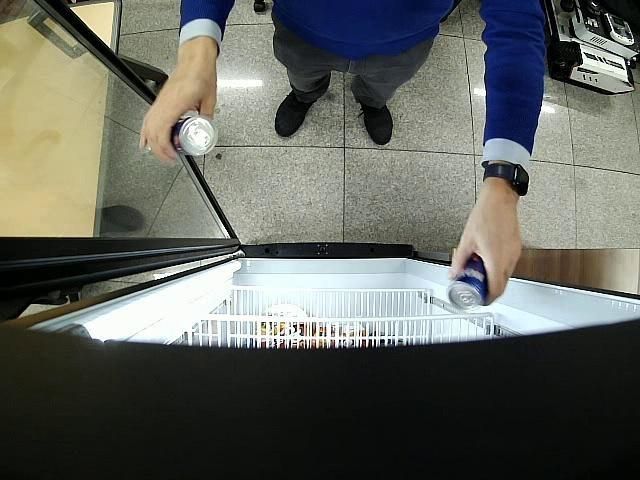16_hot6: (448, 253, 487, 310), (170, 114, 217, 156)
